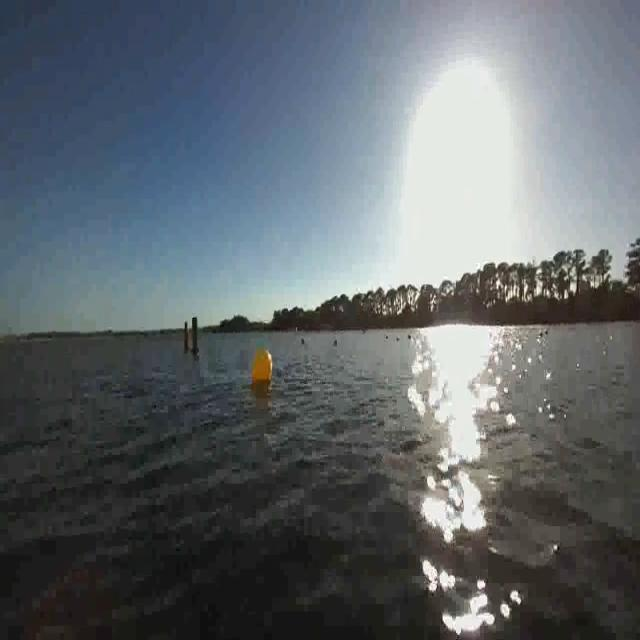green-column-buoy: (188, 316, 200, 354)
red-column-buoy: (182, 320, 190, 358)
yellow-buoy: (254, 347, 276, 385)
